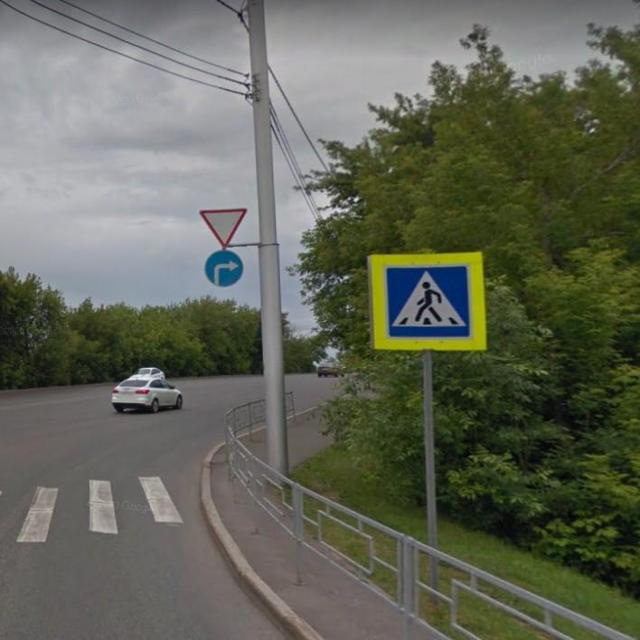traffic_sign: (367, 248, 490, 353), (197, 204, 251, 254)
